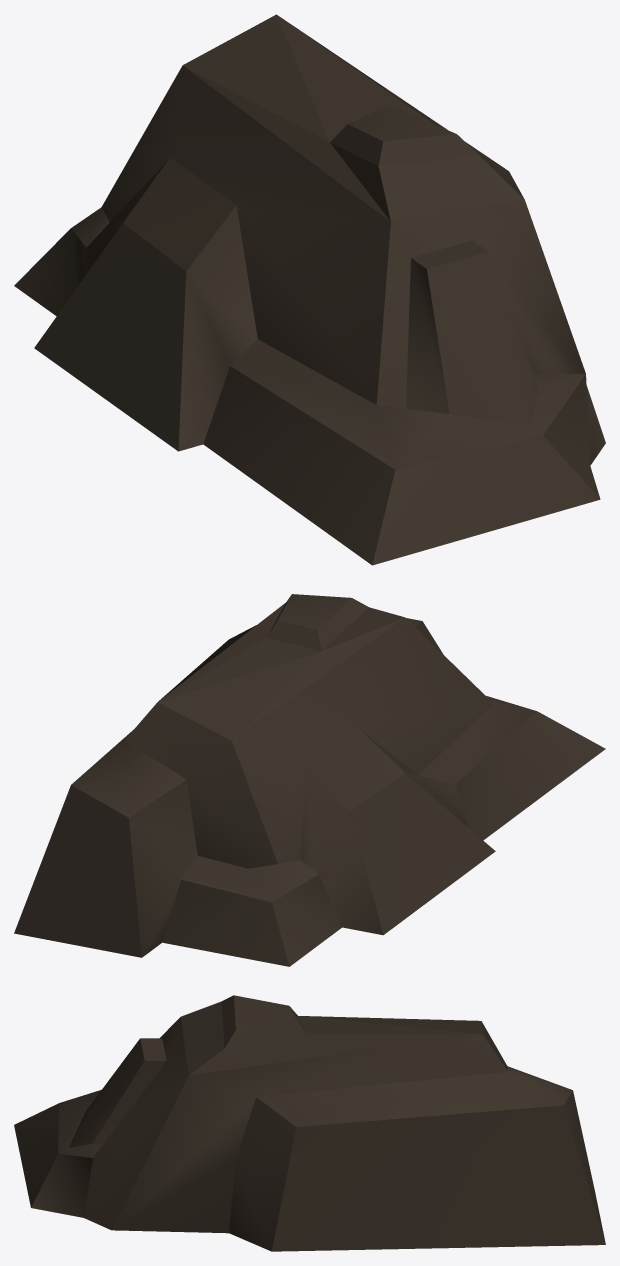
The model's file is roca.obj.
The picture shows the model from 3 angles, top to bottom: view 1: azimuth 30°, elevation 25°; view 2: azimuth 150°, elevation 25°; view 3: azimuth 270°, elevation 25°; orthographic projection. The views are drawn at different scales.
Parts seen in each view (by area): view 1: Big_rock_1; view 2: Big_rock_1; view 3: Big_rock_1.
Boxes of the visible parts, x1,y1,x2,y2 form: Big_rock_1: (14, 14, 605, 565); Big_rock_1: (14, 594, 605, 966); Big_rock_1: (14, 995, 605, 1251).
Size of the model in its own units: 5.06 by 3.44 by 9.58.
1 material, 1 textured.
